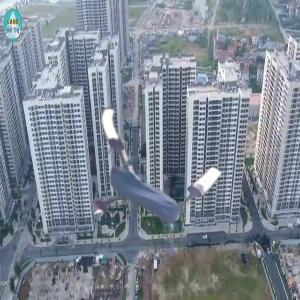drone: (79, 115, 221, 257)
